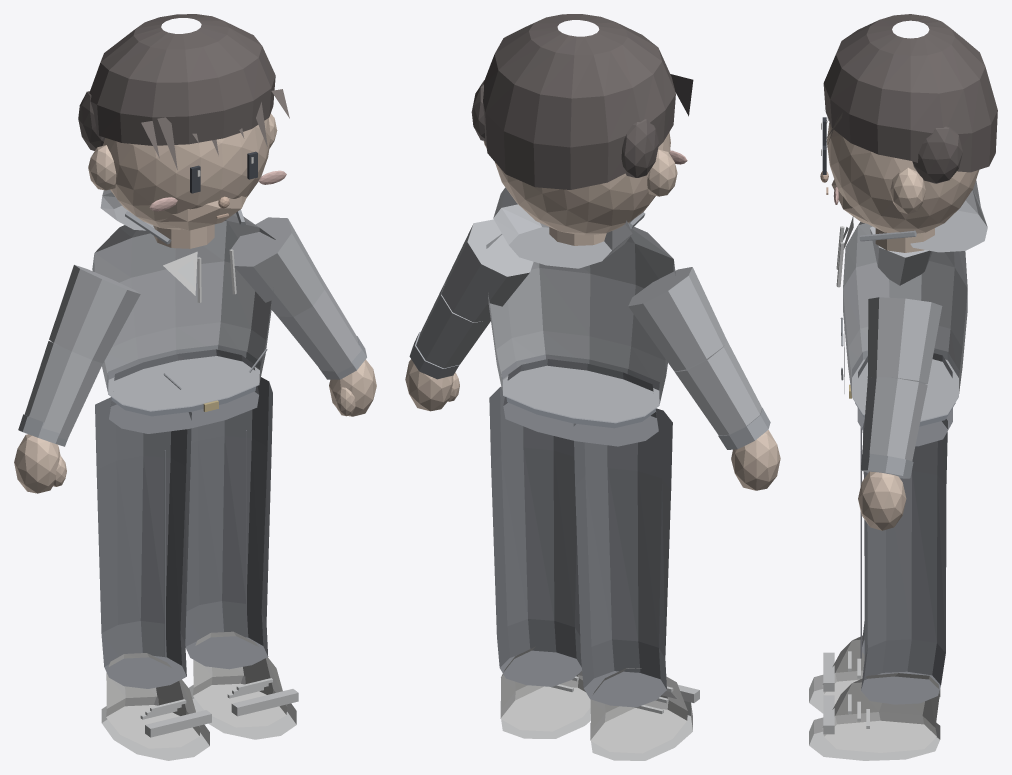
Rendered from preset_hoodie_uniform.glb.
The picture shows the model from 3 angles, left to right: view 1: azimuth 30°, elevation 25°; view 2: azimuth 150°, elevation 25°; view 3: azimuth 270°, elevation 25°; orthographic projection. The views are drawn at different scales.
Parts seen in each view (by area): view 1: bottom_uniform_Leg_R, top_hoodie_Torso, bottom_uniform_Leg_L, core_HairCap, top_hoodie_Sleeve_R, top_hoodie_Sleeve_L, core_Head, core_Shoe_R, core_Shoe_L, bottom_uniform_Waist, core_Hand_R, core_Hand_L (+12 smaller); view 2: core_HairCap, bottom_uniform_Leg_R, top_hoodie_Torso, bottom_uniform_Leg_L, top_hoodie_Sleeve_R, top_hoodie_Sleeve_L, core_Head, core_Shoe_R, core_Shoe_L, top_hoodie_Hood, bottom_uniform_Waist, core_HairSide (+7 smaller); view 3: core_HairCap, bottom_uniform_Leg_L, top_hoodie_Torso, top_hoodie_Sleeve_L, core_Shoe_L, core_Head, top_hoodie_Hood, core_Hand_L, core_Shoe_R, core_HairSide, top_hoodie_Sleeve_R, core_Ears (+7 smaller).
Boxes of the visible parts, x1,y1,x2,y2 form: bottom_uniform_Leg_R: (95, 397, 191, 688); top_hoodie_Torso: (92, 213, 275, 410); bottom_uniform_Leg_L: (185, 377, 272, 669); core_HairCap: (89, 14, 275, 145); top_hoodie_Sleeve_R: (24, 265, 140, 439); top_hoodie_Sleeve_L: (231, 217, 361, 373); core_Head: (102, 118, 270, 229); core_Shoe_R: (101, 653, 211, 760); core_Shoe_L: (189, 631, 298, 739); bottom_uniform_Waist: (109, 349, 258, 433); core_Hand_R: (14, 434, 66, 493); core_Hand_L: (329, 359, 376, 416); core_HairCap: (483, 14, 675, 189); bottom_uniform_Leg_R: (573, 408, 672, 707); top_hoodie_Torso: (486, 227, 675, 422); bottom_uniform_Leg_L: (489, 387, 581, 686); top_hoodie_Sleeve_R: (628, 267, 761, 435); top_hoodie_Sleeve_L: (416, 219, 533, 368); core_Head: (495, 132, 670, 235); core_Shoe_R: (590, 668, 699, 760); core_Shoe_L: (500, 646, 590, 738); top_hoodie_Hood: (493, 187, 632, 268); bottom_uniform_Waist: (503, 359, 658, 446); core_HairSide: (471, 80, 658, 177); core_HairCap: (823, 14, 997, 172); bottom_uniform_Leg_L: (861, 419, 947, 704); top_hoodie_Torso: (843, 222, 967, 420); top_hoodie_Sleeve_L: (861, 297, 942, 461); core_Shoe_L: (809, 673, 940, 760); core_Head: (826, 122, 979, 233); top_hoodie_Hood: (910, 180, 987, 252); core_Hand_L: (858, 471, 906, 530); core_Shoe_R: (809, 635, 940, 713); core_HairSide: (912, 126, 962, 183); top_hoodie_Sleeve_R: (870, 226, 932, 285); core_Ears: (890, 167, 925, 213).
Bounding box in the file's own units: 0.772 × 1.43 × 0.3508.
